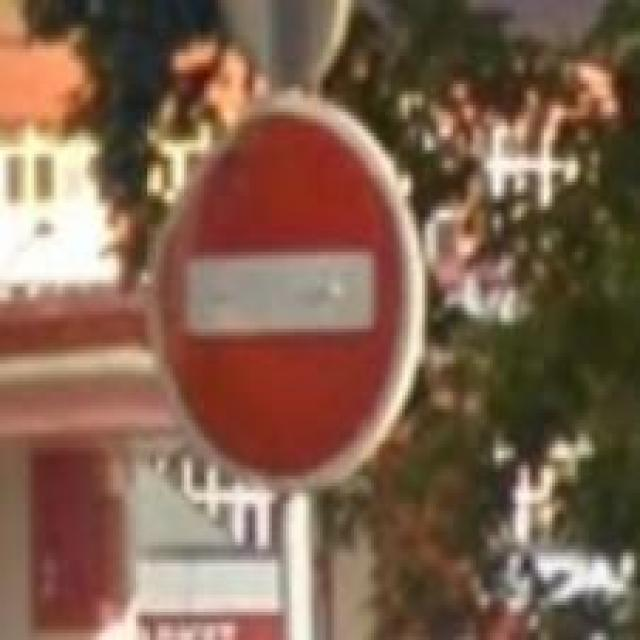Zakaz wjazdu: (147, 95, 428, 493)
